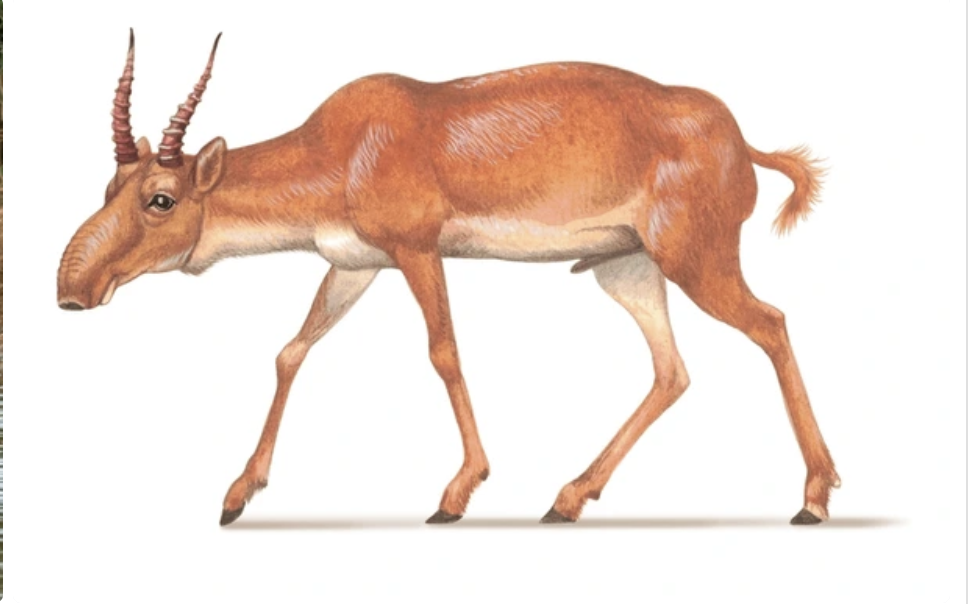saiga: (47, 28, 841, 525)
